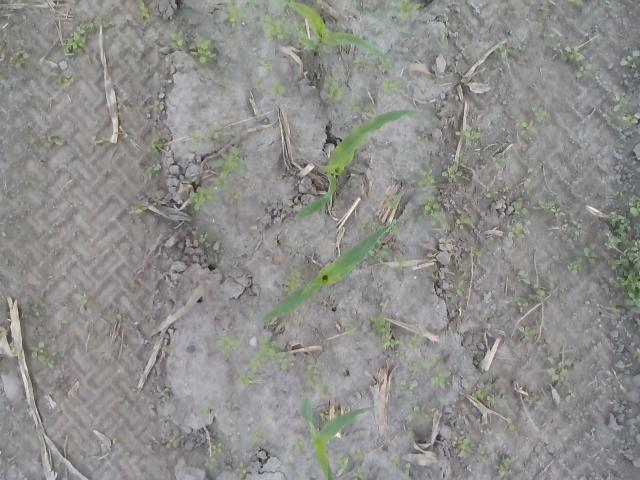Maize: (262, 221, 396, 324), (294, 110, 414, 220), (276, 0, 386, 62), (302, 397, 378, 480)
Weeds: (603, 188, 640, 316), (235, 336, 292, 385), (543, 32, 594, 80), (505, 270, 546, 314), (64, 17, 110, 56), (257, 12, 310, 45), (213, 145, 251, 189), (595, 73, 628, 120), (30, 326, 60, 370), (189, 32, 226, 66), (450, 436, 492, 464), (334, 446, 368, 480), (368, 314, 400, 350), (424, 351, 452, 391), (566, 240, 601, 272), (188, 120, 225, 150), (415, 194, 448, 224), (302, 362, 331, 396), (530, 192, 567, 218), (186, 184, 218, 214), (494, 454, 530, 480), (401, 405, 434, 433), (494, 30, 520, 60), (546, 359, 576, 385), (321, 72, 346, 103), (222, 0, 246, 32), (344, 98, 378, 120), (391, 0, 423, 23), (282, 266, 306, 296), (471, 382, 497, 408), (366, 238, 390, 264), (215, 330, 242, 352), (9, 46, 32, 70), (439, 164, 466, 184), (410, 167, 436, 186), (456, 126, 482, 145), (22, 302, 48, 320), (506, 197, 528, 218), (513, 118, 538, 136), (398, 378, 418, 400), (620, 46, 640, 68), (267, 81, 289, 101), (168, 30, 191, 49), (505, 222, 529, 240), (378, 78, 402, 96), (55, 72, 82, 88), (222, 188, 244, 206), (528, 105, 550, 123), (144, 135, 162, 157), (351, 216, 379, 230), (247, 423, 265, 444), (384, 191, 401, 213), (456, 214, 478, 230), (408, 328, 425, 348), (210, 432, 224, 456), (232, 460, 248, 480), (520, 321, 538, 338), (256, 55, 274, 72), (137, 0, 153, 19), (39, 134, 62, 147), (88, 134, 112, 146), (350, 54, 374, 66), (618, 112, 638, 126), (376, 57, 394, 72), (524, 398, 546, 410), (282, 316, 304, 328), (536, 0, 552, 16), (463, 243, 481, 257), (454, 278, 466, 298), (492, 152, 507, 168), (280, 0, 296, 15), (504, 417, 520, 432), (270, 233, 284, 249), (146, 163, 162, 177), (393, 254, 406, 271), (216, 77, 233, 90), (148, 100, 166, 112), (202, 455, 216, 470), (526, 161, 542, 174), (400, 36, 418, 47), (290, 438, 306, 450), (127, 206, 146, 216), (520, 175, 531, 192), (494, 2, 508, 15), (416, 132, 429, 146), (115, 97, 128, 111), (384, 455, 399, 467), (404, 462, 414, 480), (566, 0, 588, 8), (432, 39, 449, 49), (200, 404, 217, 414), (440, 290, 454, 302), (428, 270, 442, 282), (251, 77, 265, 89), (564, 388, 576, 402), (631, 346, 640, 364), (574, 223, 586, 236), (243, 0, 258, 10), (288, 196, 300, 208), (158, 386, 170, 398), (314, 0, 329, 9), (458, 152, 469, 164), (318, 409, 328, 422), (182, 176, 198, 184), (394, 349, 405, 360), (486, 191, 498, 201), (408, 358, 418, 370), (152, 195, 162, 206), (532, 20, 544, 29), (386, 225, 396, 235), (446, 320, 456, 330), (168, 436, 178, 446), (342, 324, 353, 333), (111, 313, 123, 321), (200, 231, 210, 240), (296, 126, 304, 137), (80, 292, 88, 303), (456, 263, 464, 273), (164, 345, 174, 353), (558, 286, 568, 294), (607, 471, 615, 480), (80, 56, 86, 64), (364, 150, 369, 156)
